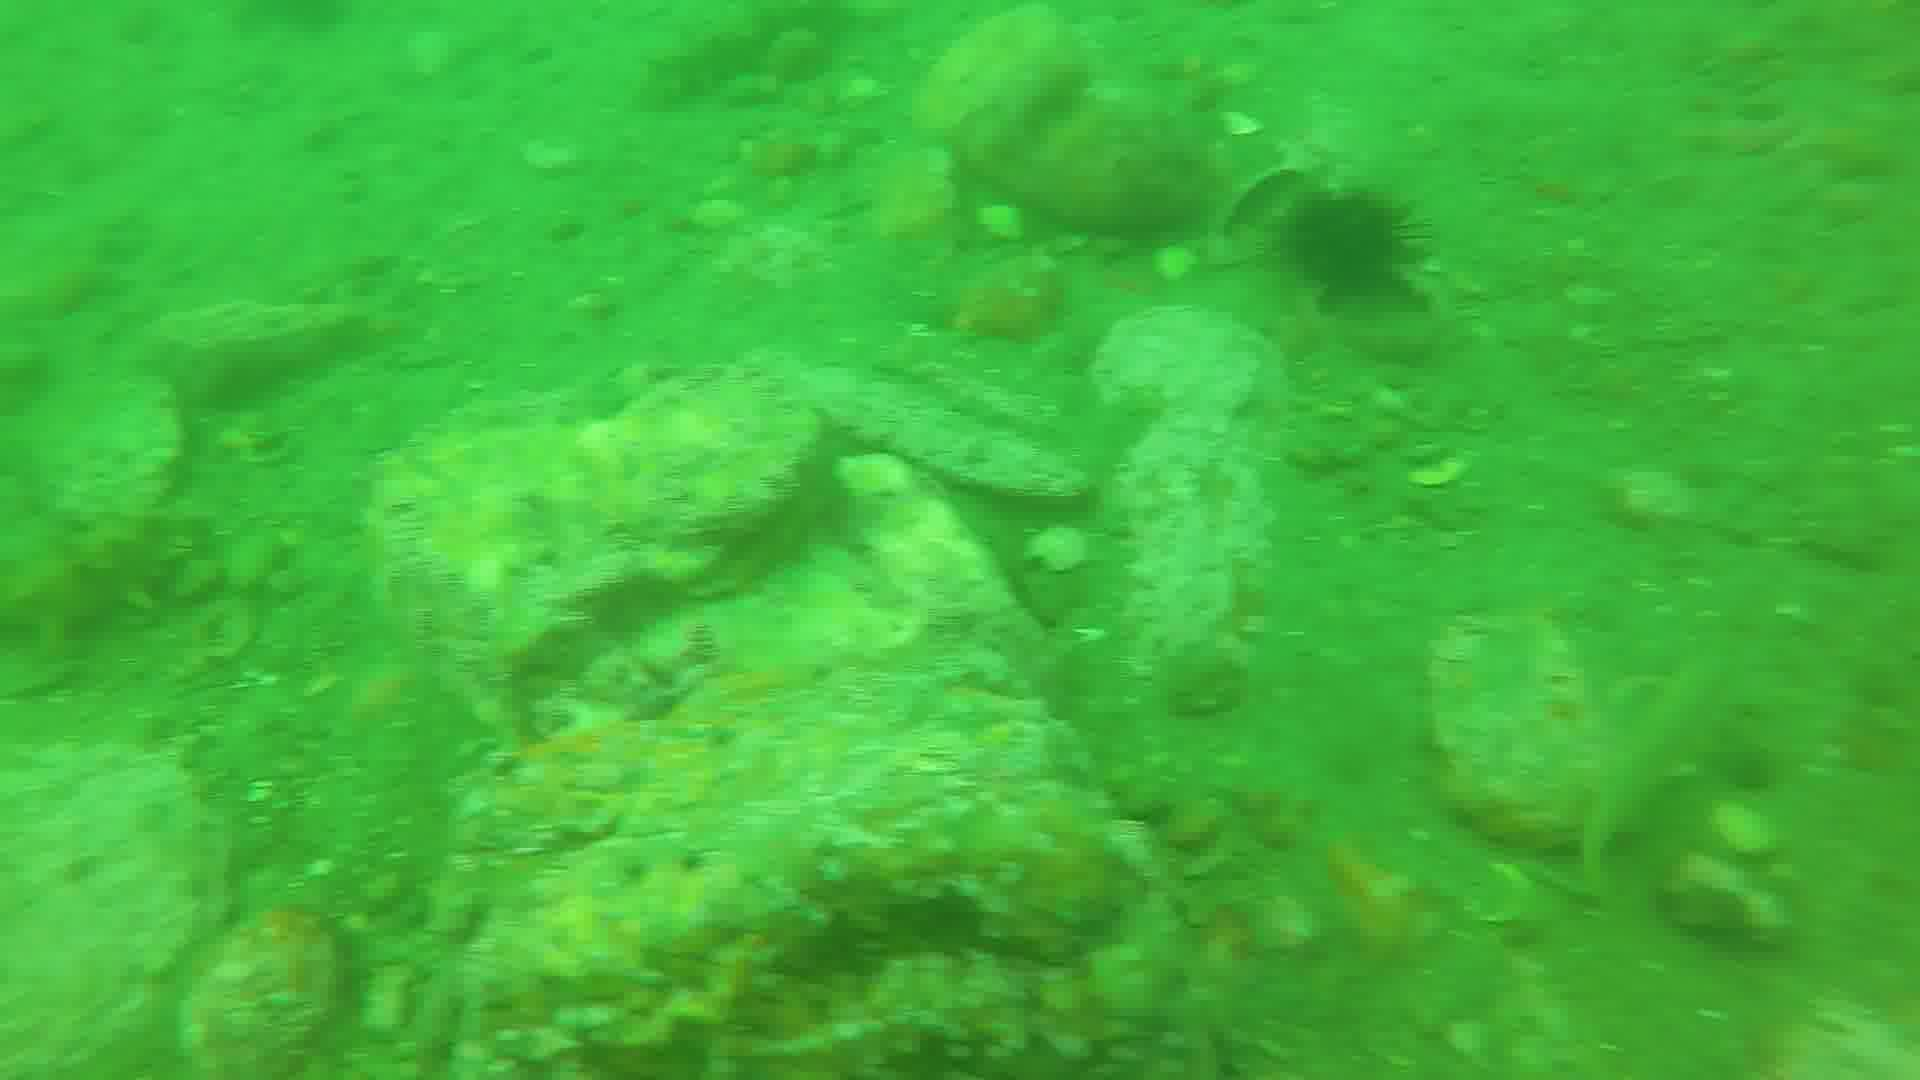echinus: (1288, 193, 1423, 301)
